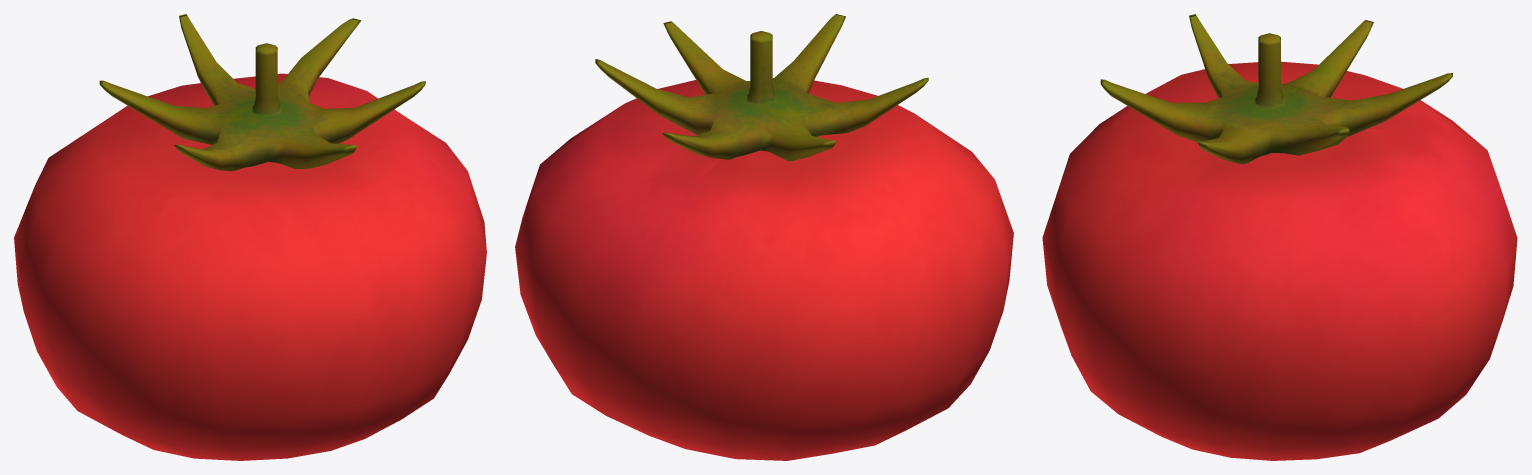
Rendered from Tomato.fbx.
3 renders of one model, left to right at view 1: azimuth 30°, elevation 25°; view 2: azimuth 150°, elevation 25°; view 3: azimuth 270°, elevation 25°, orthographic. The views are drawn at different scales.
Visible parts, largest first — view 1: Tomato; view 2: Tomato; view 3: Tomato.
Boxes of the visible parts, box(x1,y1,x2,y2) form: Tomato: box(14, 14, 486, 460); Tomato: box(515, 14, 1013, 460); Tomato: box(1042, 14, 1517, 460).
Size of the model in its own units: 2.63 by 2.28 by 2.53.
